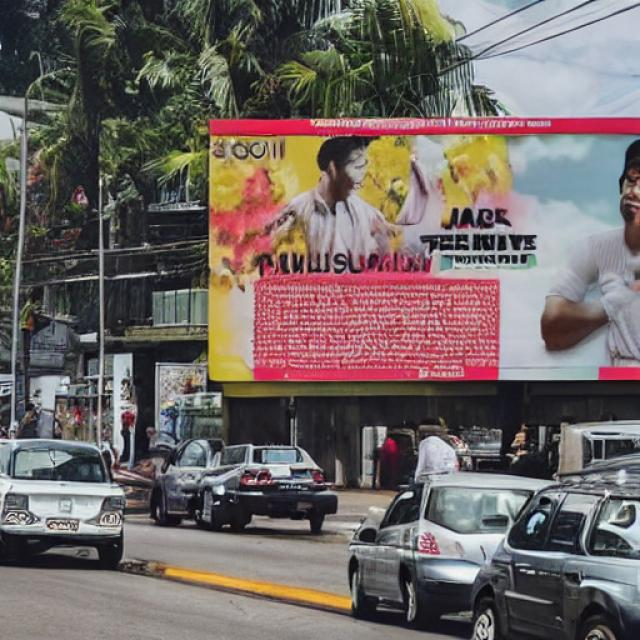Billboard: (204, 112, 640, 388)
